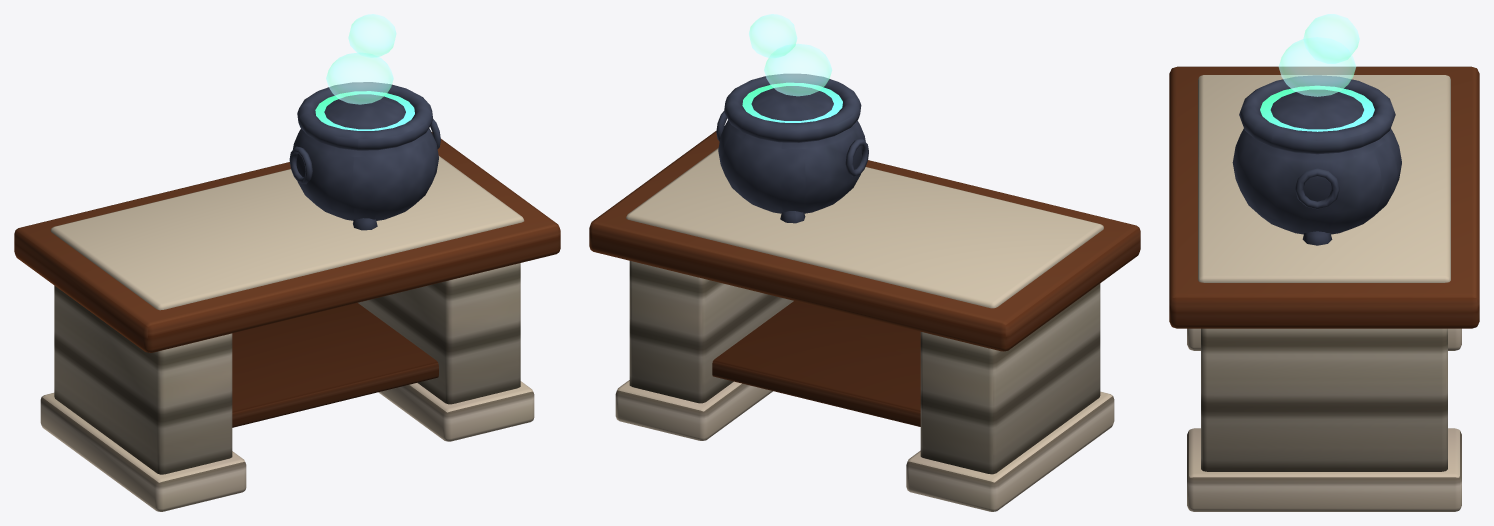
Rendered from h_prop_island.glb.
3 renders of one model, left to right at view 1: azimuth 30°, elevation 25°; view 2: azimuth 150°, elevation 25°; view 3: azimuth 270°, elevation 25°, orthographic. The views are drawn at different scales.
Visible parts, largest first — view 1: IslStoneSlab, IslWoodRim, IslPillarWall_-0.54, IslWoodShelf, IslPillarWall_0.54, CauldronBelly, IslPillarFoot_-0.54, IslPillarFoot_0.54, CauldronRim, SteamPuff1, SteamPuff2, CauldronBrew; view 2: IslStoneSlab, IslWoodRim, IslPillarWall_-0.54, IslWoodShelf, IslPillarWall_0.54, CauldronBelly, IslPillarFoot_-0.54, IslPillarFoot_0.54, CauldronRim, SteamPuff1, SteamPuff2, CauldronBrew; view 3: IslPillarWall_0.54, IslStoneSlab, IslWoodRim, CauldronBelly, IslPillarFoot_0.54, CauldronRim, SteamPuff1, SteamPuff2, CauldronBrew, CauldronRing_1, IslPillarFoot_-0.54.
Boxes of the visible parts, box(x1,y1,x2,y2) form: IslStoneSlab: box(50, 156, 524, 310); IslWoodRim: box(14, 132, 560, 352); IslPillarWall_-0.54: box(54, 285, 232, 474); IslWoodShelf: box(232, 303, 438, 427); IslPillarWall_0.54: box(358, 263, 520, 404); CauldronBelly: box(293, 94, 438, 220); IslPillarFoot_-0.54: box(40, 393, 246, 511); IslPillarFoot_0.54: box(378, 381, 534, 441); CauldronRim: box(297, 82, 433, 150); SteamPuff1: box(326, 52, 393, 104); SteamPuff2: box(348, 14, 396, 57); CauldronBrew: box(315, 91, 414, 130); IslStoneSlab: box(626, 148, 1103, 308); IslWoodRim: box(589, 130, 1140, 351); IslPillarWall_-0.54: box(920, 283, 1100, 474); IslWoodShelf: box(712, 301, 920, 426); IslPillarWall_0.54: box(629, 261, 793, 403); CauldronBelly: box(718, 86, 865, 213); IslPillarFoot_-0.54: box(906, 391, 1114, 511); IslPillarFoot_0.54: box(615, 380, 772, 440); CauldronRim: box(724, 74, 861, 142); SteamPuff1: box(764, 43, 831, 96); SteamPuff2: box(749, 14, 797, 58); CauldronBrew: box(742, 83, 842, 122); IslPillarWall_0.54: box(1201, 328, 1447, 471); IslStoneSlab: box(1198, 75, 1450, 282); IslWoodRim: box(1169, 66, 1479, 328); CauldronBelly: box(1232, 90, 1401, 234); IslPillarFoot_0.54: box(1187, 428, 1461, 511); CauldronRim: box(1239, 75, 1395, 154); SteamPuff1: box(1279, 37, 1355, 96); SteamPuff2: box(1303, 14, 1359, 63); CauldronBrew: box(1260, 86, 1374, 131); CauldronRing_1: box(1295, 168, 1339, 209); IslPillarFoot_-0.54: box(1187, 328, 1461, 350).
Bounding box in the file's own units: 1.56 × 1.38 × 0.88.
Materials: 5 (3 with a texture image).
